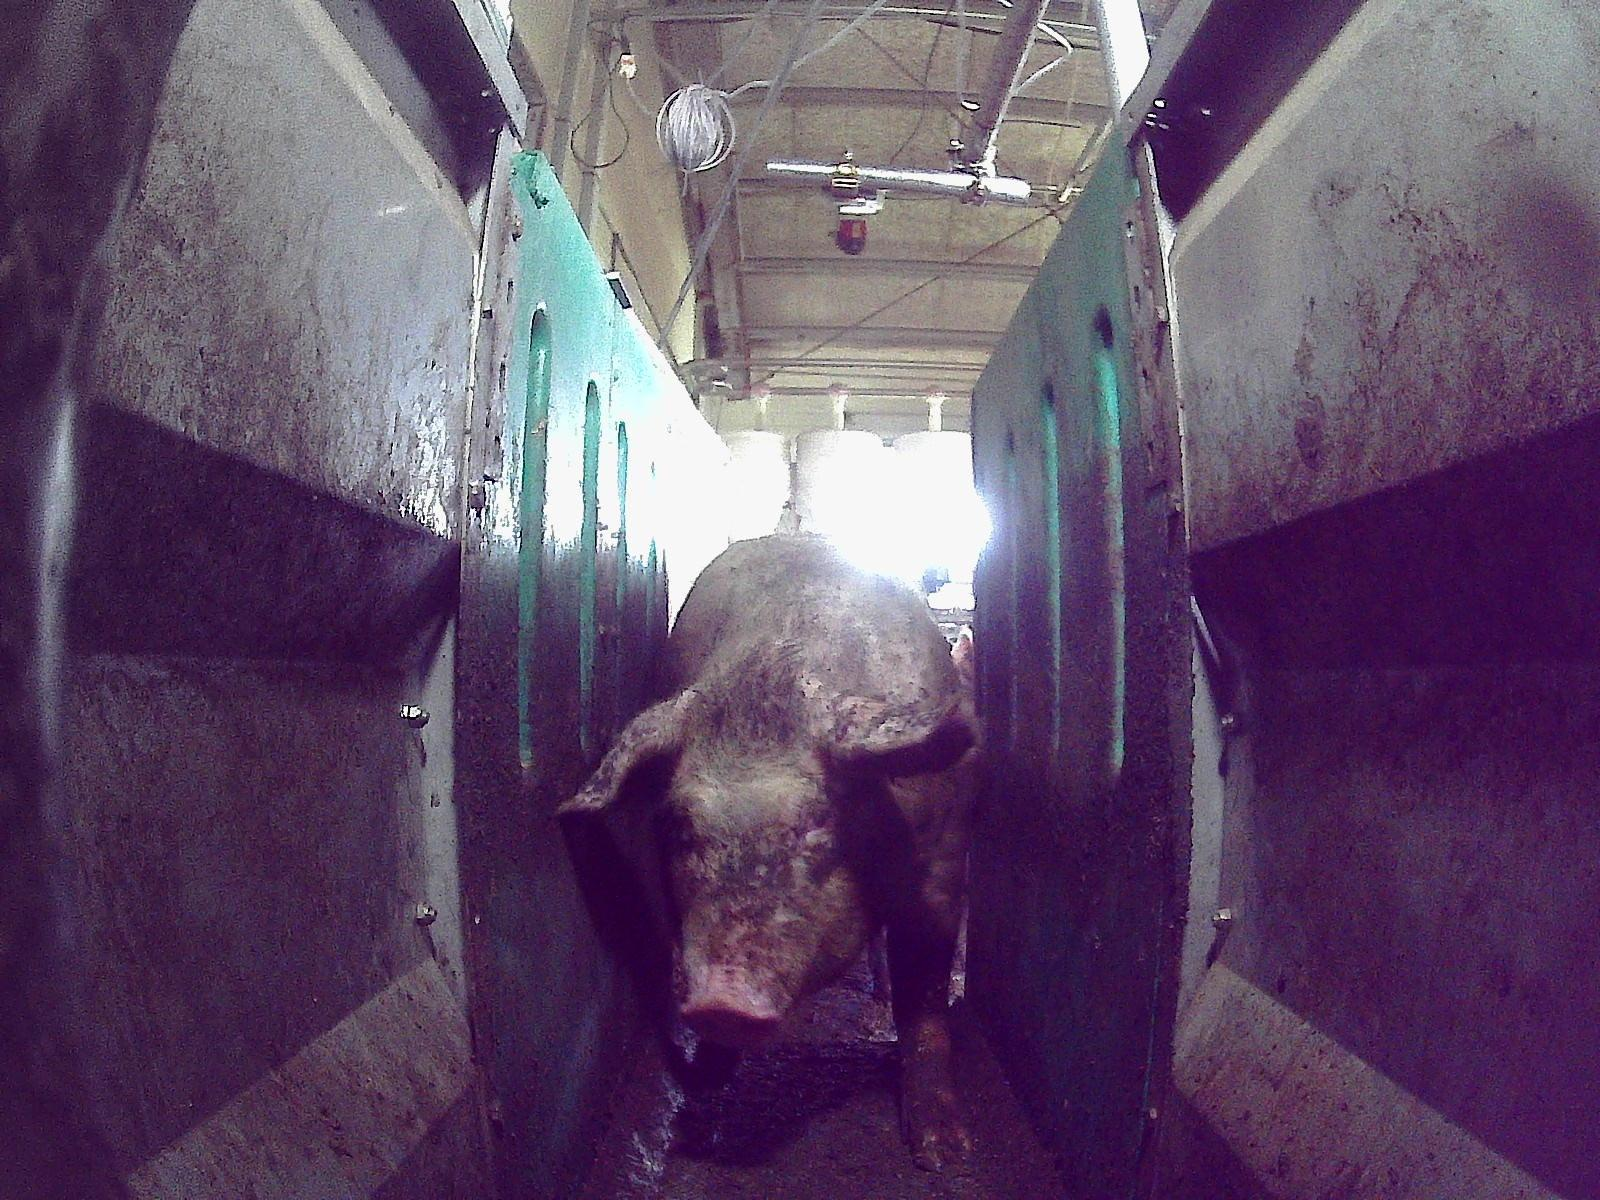Face: (650, 670, 910, 1039)
